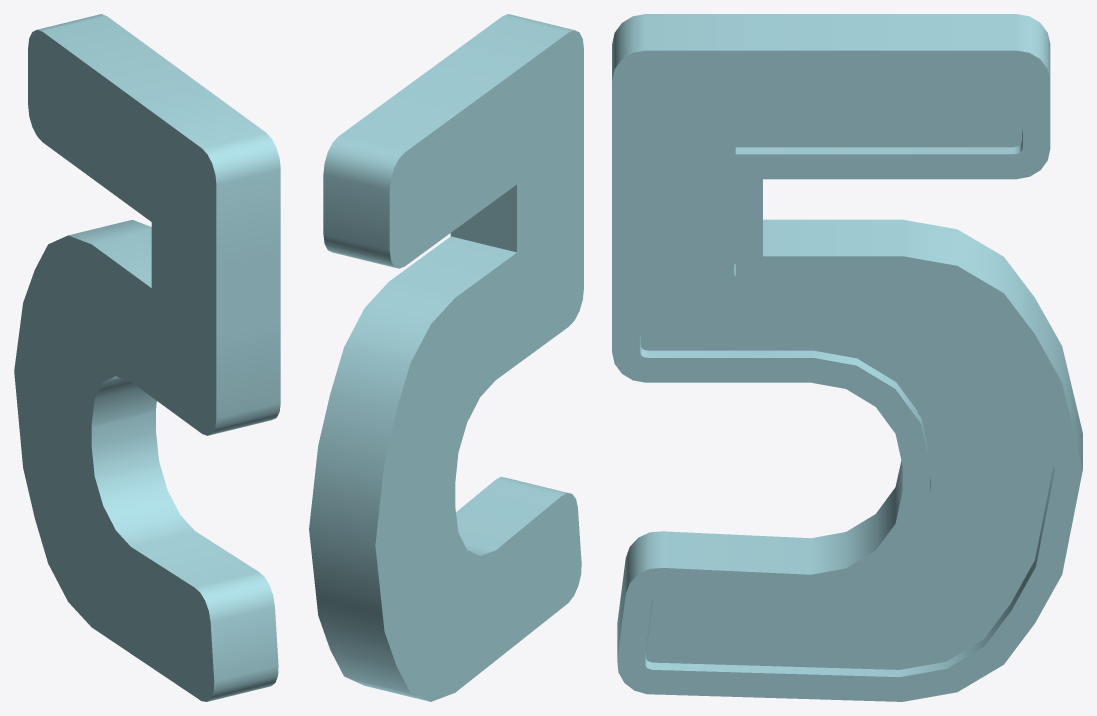
File: bonus_5_wh.fbx
The picture shows the model from 3 angles, left to right: view 1: azimuth 30°, elevation 25°; view 2: azimuth 150°, elevation 25°; view 3: azimuth 270°, elevation 25°; orthographic projection. The views are drawn at different scales.
Parts seen in each view (by area): view 1: bonus_5; view 2: bonus_5; view 3: bonus_5.
Boxes of the visible parts, left/top/right/bottom form: bonus_5: left=14, top=14, right=280, bottom=701; bonus_5: left=309, top=14, right=583, bottom=701; bonus_5: left=612, top=14, right=1082, bottom=701.
Size of the model in its own units: 15.75 by 131 by 85.8.
